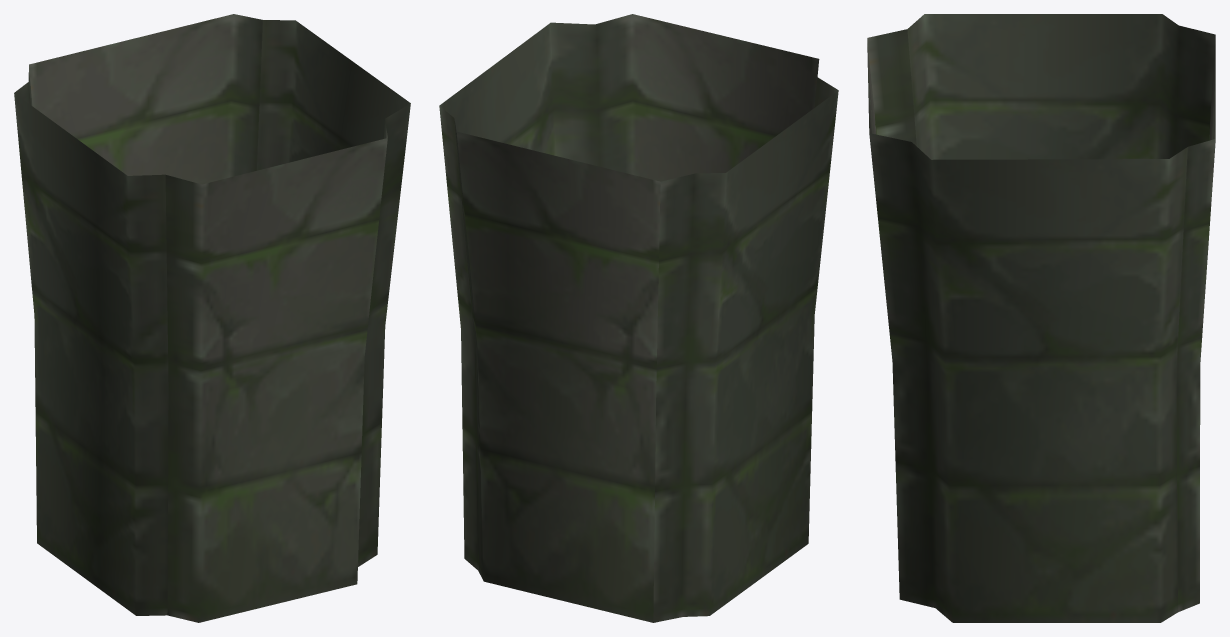
Rendered from yw_shanlin_postamong_001.FBX.
3 views of the same model, side by side, from view 1: azimuth 30°, elevation 25°; view 2: azimuth 150°, elevation 25°; view 3: azimuth 270°, elevation 25° (orthographic). The views are drawn at different scales.
Visible parts, largest first — view 1: yw_shanlin_postamong_001; view 2: yw_shanlin_postamong_001; view 3: yw_shanlin_postamong_001.
Boxes of the visible parts, x1,y1,x2,y2 form: yw_shanlin_postamong_001: (14, 14, 410, 622); yw_shanlin_postamong_001: (439, 14, 838, 622); yw_shanlin_postamong_001: (867, 14, 1215, 622).
Bounding box in the file's own units: 42.19 × 42.46 × 63.89.
